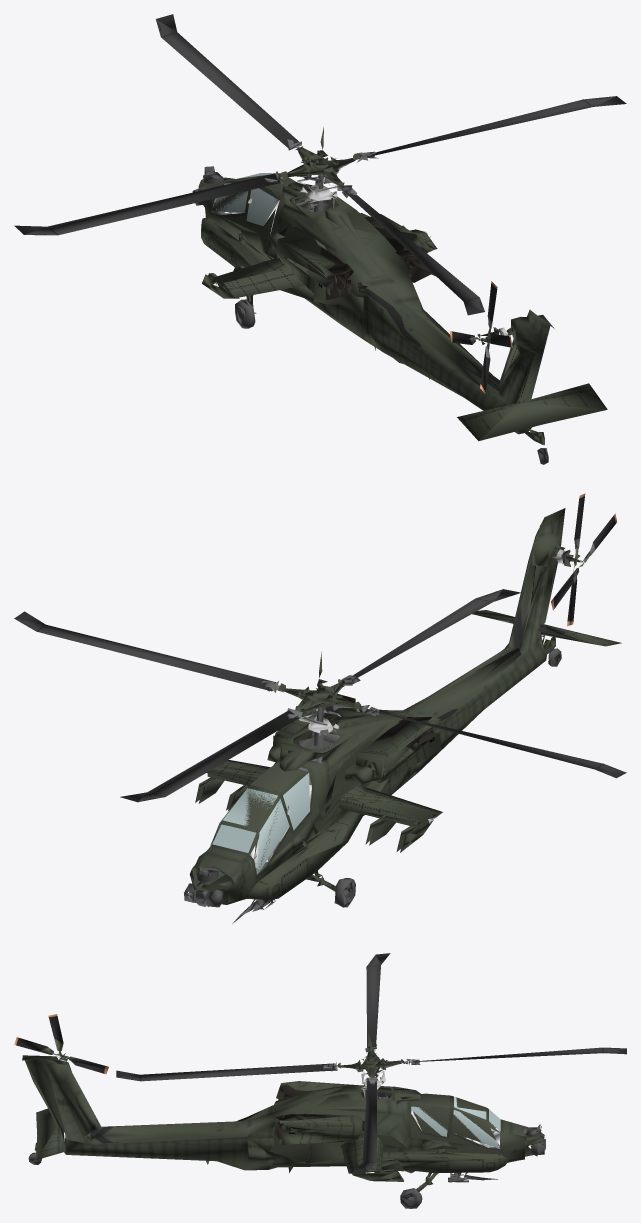
The picture shows the model from 3 angles, top to bottom: view 1: azimuth 30°, elevation 25°; view 2: azimuth 150°, elevation 25°; view 3: azimuth 270°, elevation 25°; orthographic projection. The views are drawn at different scales.
Visible parts, largest first — view 1: body|ah2-FACES, rotor|ah621-FACES, body|ah3-FACES, body|ah1-FACES, body|ah18b-FACES, body|ah2_2-FACES, body|ah5L-FACES, body|ah30b-FACES, body|ah21a01-FACES, body|Object01-FACES, trotor|ah59a-FACES, rotor|ah23a-FACES (+2 smaller); view 2: body|ah2-FACES, rotor|ah621-FACES, body|Object01-FACES, body|ah30b-FACES, body|ah5L-FACES, body|ah18b-FACES, body|ah2_2-FACES, body|ah1-FACES, body|ah9L1-FACES, body|ah54-FACES, body|ah05-FACES, body|Object01-FACES_0 (+6 smaller); view 3: body|ah1-FACES, rotor|ah621-FACES, body|ah2_2-FACES, body|ah30b-FACES, body|ah18b-FACES, body|ah05-FACES, body|ah2-FACES, body|Object01-FACES, body|ah3-FACES, body|Object01-FACES_0, trotor|ah59a-FACES, body|ah21a01-FACES (+4 smaller).
Part boxes in pixels (x1,y1,x2,y2): body|ah2-FACES: (198, 179, 550, 444); rotor|ah621-FACES: (14, 14, 626, 315); body|ah3-FACES: (457, 383, 607, 441); body|ah1-FACES: (221, 177, 554, 444); body|ah18b-FACES: (275, 214, 434, 286); body|ah2_2-FACES: (210, 182, 381, 346); body|ah5L-FACES: (214, 229, 437, 298); body|ah30b-FACES: (201, 217, 314, 300); body|ah21a01-FACES: (276, 252, 435, 303); body|Object01-FACES: (211, 173, 309, 225); trotor|ah59a-FACES: (449, 281, 512, 393); rotor|ah23a-FACES: (280, 146, 360, 185); body|ah2-FACES: (200, 508, 565, 904); rotor|ah621-FACES: (14, 589, 626, 802); body|Object01-FACES: (210, 773, 309, 874); body|ah30b-FACES: (196, 811, 363, 899); body|ah5L-FACES: (207, 760, 442, 822); body|ah18b-FACES: (275, 694, 440, 771); body|ah2_2-FACES: (196, 711, 414, 891); body|ah1-FACES: (189, 508, 564, 890); body|ah9L1-FACES: (195, 777, 433, 852); body|ah54-FACES: (184, 648, 561, 911); body|ah05-FACES: (214, 769, 296, 874); body|Object01-FACES_0: (210, 773, 319, 864); body|ah1-FACES: (22, 1055, 544, 1170); rotor|ah621-FACES: (116, 953, 626, 1171); body|ah2_2-FACES: (270, 1086, 544, 1169); body|ah30b-FACES: (343, 1146, 509, 1185); body|ah18b-FACES: (275, 1081, 358, 1132); body|ah05-FACES: (413, 1093, 495, 1142); body|ah2-FACES: (24, 1055, 543, 1172); body|Object01-FACES: (411, 1096, 500, 1148); body|ah3-FACES: (36, 1108, 65, 1159); body|Object01-FACES_0: (411, 1095, 499, 1147); trotor|ah59a-FACES: (14, 1014, 108, 1074); body|ah21a01-FACES: (275, 1099, 358, 1144).
Bounding box in the file's own units: 14.63 × 5.13 × 17.52.
28 materials, 18 textured.
